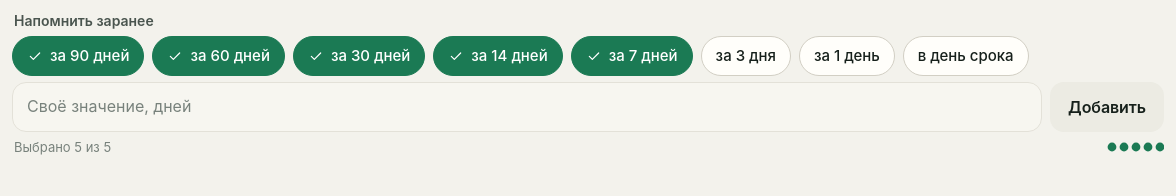
Test: T-FE-CMP: выбор отступов напоминаний › не позволяет выбрать больше пяти напоминаний
Click the button "за 3 дня" at (746, 56), box [701, 36, 791, 76]
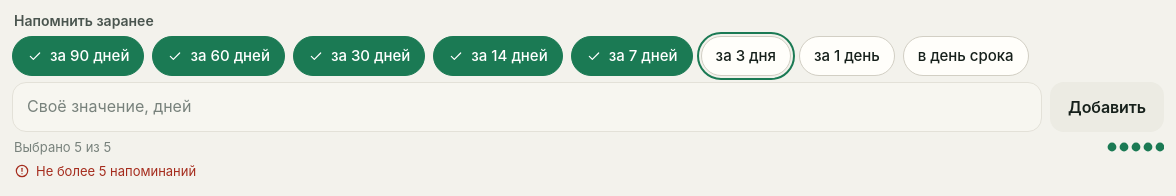
Now the message reads "Не более 5 напоминаний", box [36, 163, 196, 179]
